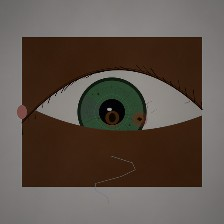foreign_body_visible: (89, 99, 135, 136)
